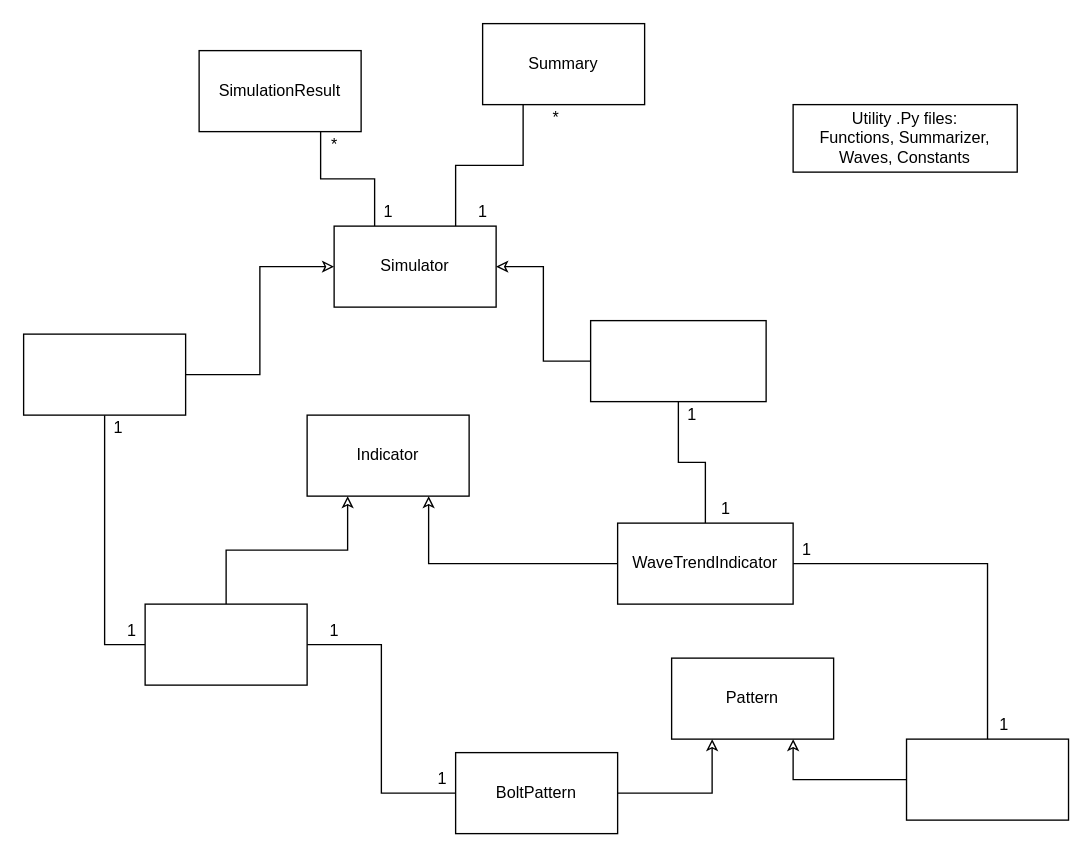
Some shapes in this 1092 by 857 pixel diagram are drawn without their labels. Each missing label, with the centre of its shape:
"BoltIndicator" belongs at [225,644].
"BoltSimulator" belongs at [104,374].
"WaveTrendPattern" belongs at [987,779].
"WaveTrendSimulator" belongs at [677,360].
